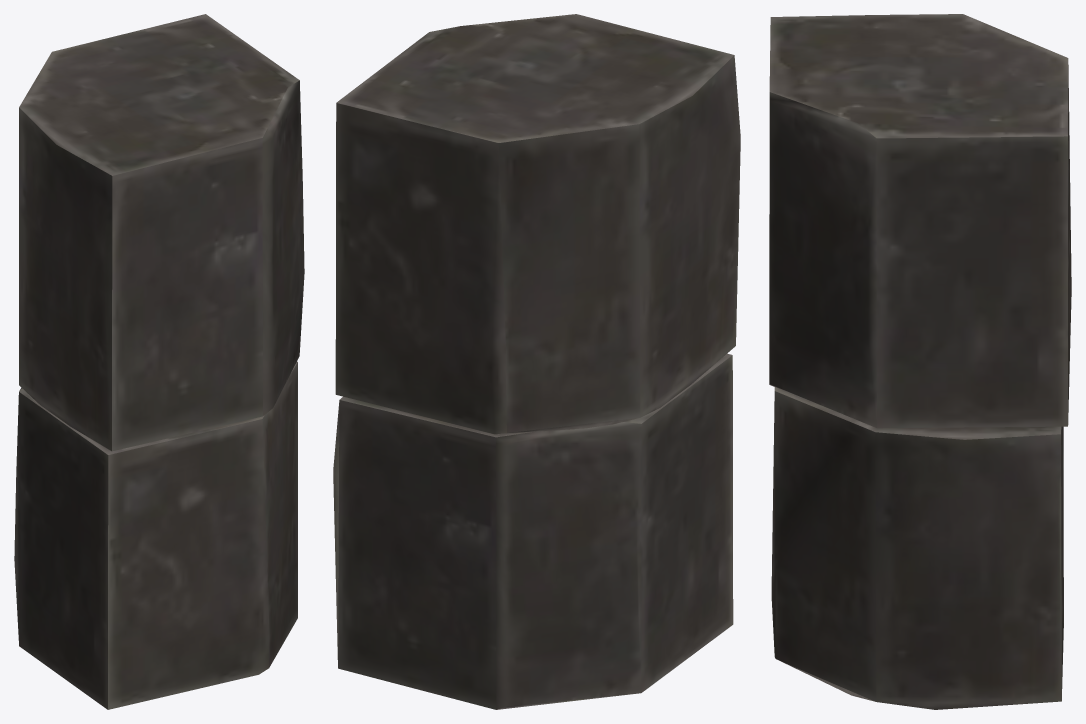
The picture shows the model from 3 angles, left to right: view 1: azimuth 30°, elevation 25°; view 2: azimuth 150°, elevation 25°; view 3: azimuth 270°, elevation 25°; orthographic projection. The views are drawn at different scales.
Visible parts, largest first — view 1: SM_Greathall_WallCap_4m_02_LOD0; view 2: SM_Greathall_WallCap_4m_02_LOD0; view 3: SM_Greathall_WallCap_4m_02_LOD0.
Boxes of the visible parts, left/top/right/bottom form: SM_Greathall_WallCap_4m_02_LOD0: left=14, top=14, right=304, bottom=709; SM_Greathall_WallCap_4m_02_LOD0: left=333, top=14, right=740, bottom=709; SM_Greathall_WallCap_4m_02_LOD0: left=769, top=14, right=1071, bottom=709.
Size of the model in its own units: 2.01 by 4.22 by 2.
Materials: 1 (1 with a texture image).
